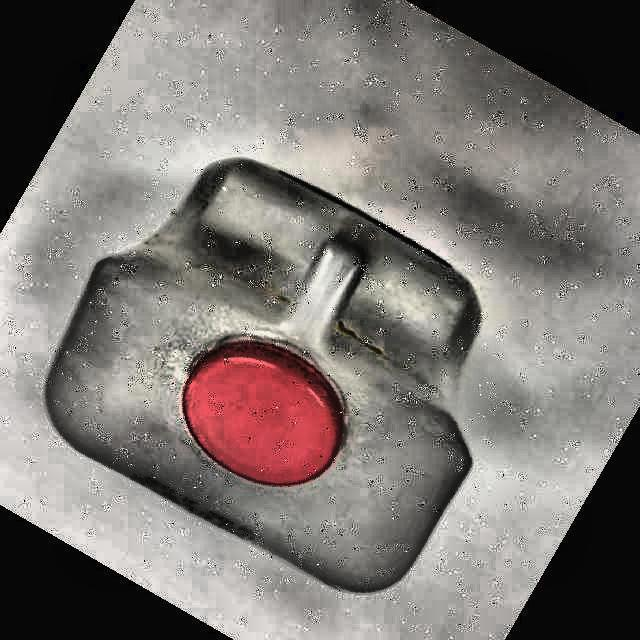plastic: (45, 161, 480, 591)
